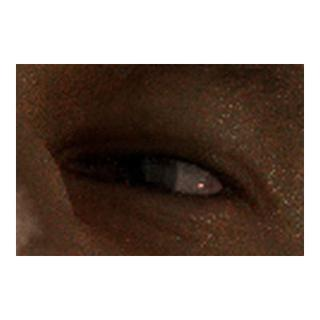pupil: (116, 154, 154, 192)
